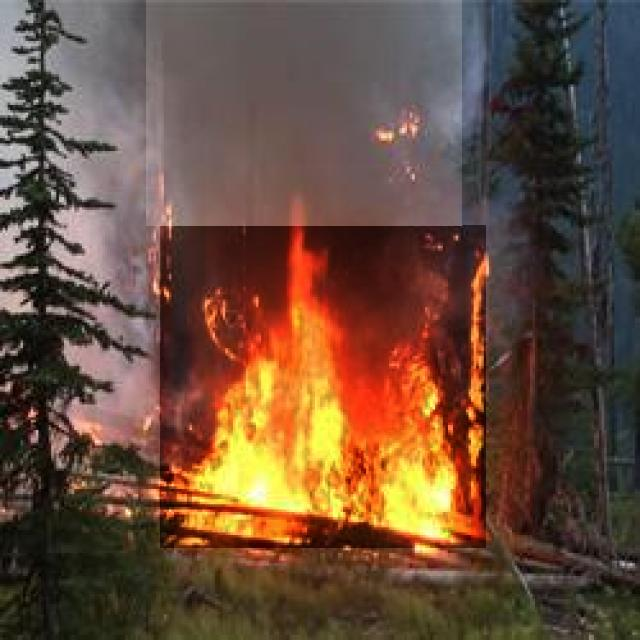Fire: (160, 225, 487, 548)
Smoke: (146, 0, 462, 226)
